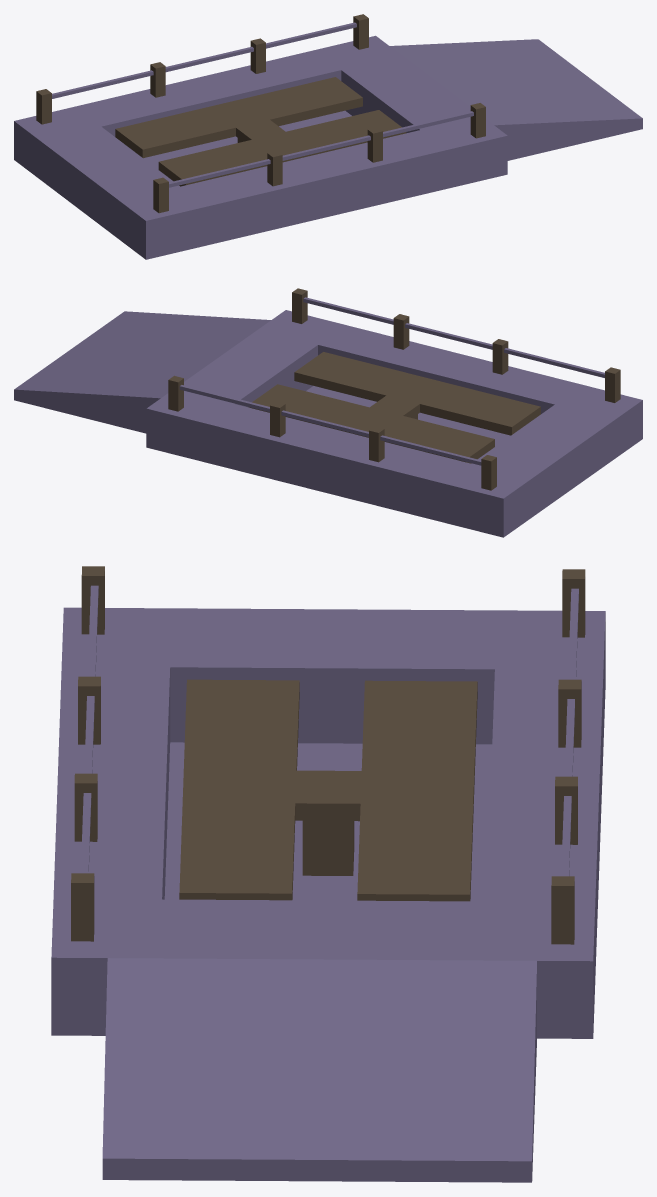
Rendered from rampe.fbx.
The picture shows the model from 3 angles, top to bottom: view 1: azimuth 30°, elevation 25°; view 2: azimuth 150°, elevation 25°; view 3: azimuth 270°, elevation 25°; orthographic projection. The views are drawn at different scales.
Parts seen in each view (by area): view 1: Cube; view 2: Cube; view 3: Cube.
Boxes of the visible parts, <box> form: Cube: <box>14,14,642,259</box>; Cube: <box>14,288,642,537</box>; Cube: <box>51,566,605,1182</box>.
Size of the model in its own units: 2877 by 385 by 1355.
